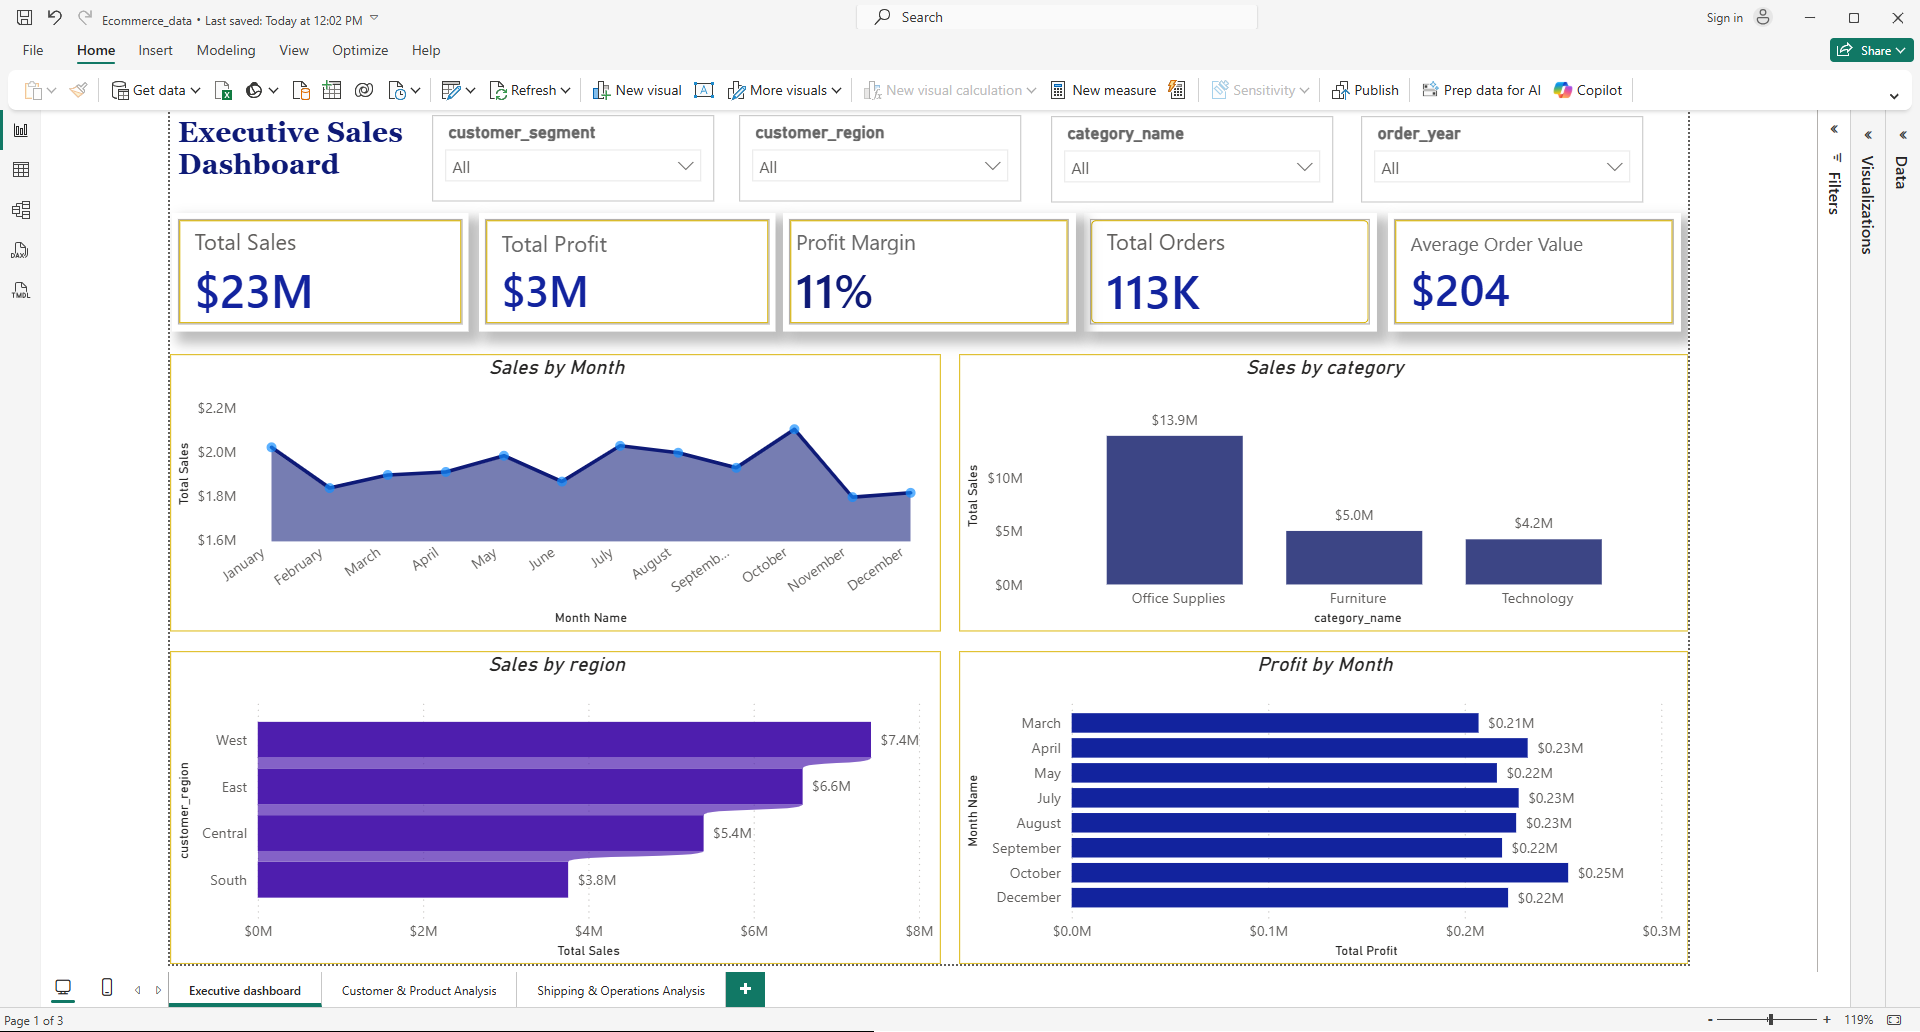

The dashboard page shown, as its layout file describes it:
{"tool":"powerbi","page":{"name":"Executive dashboard","canvas":[1280,720],"ordinal":0},"visuals":[{"type":"textbox","box":[0,0,355.4,76.8],"z":0},{"type":"stackedAreaChart","title":"Sales by Month ","fields":{"Category":["Calender.Month Name"],"Y":["Ecommerce_data.Total Sales"]},"box":[305.8,159.9,580.7,265.5],"z":1000},{"type":"columnChart","title":"Sales by category ","fields":{"Category":["Ecommerce_data.category_name"],"Y":["Ecommerce_data.Total Sales"]},"box":[886.3,159.9,393.7,265.8],"z":2000},{"type":"pieChart","title":" Sales by region","fields":{"Category":["Ecommerce_data.customer_region"],"Y":["Ecommerce_data.Total Sales"]},"box":[305.4,426,422.1,293.7],"z":3000},{"type":"barChart","title":"Profit by Month ","fields":{"Category":["Calender.Month Name"],"Y":["Ecommerce_data.Total Profit"]},"box":[727.4,425.7,552.6,293.8],"z":4000},{"type":"cardVisual","fields":{"Data":["Ecommerce_data.Total Customers"]},"box":[0,68.1,305.4,81.7],"z":5000},{"type":"cardVisual","fields":{"Data":["Ecommerce_data.Total Orders"]},"box":[0,149.8,305.4,79.8],"z":6000},{"type":"cardVisual","fields":{"Data":["Ecommerce_data.Total Sales"]},"box":[0,229.2,305,74.2],"z":7000},{"type":"cardVisual","fields":{"Data":["Ecommerce_data.Total Profit"]},"box":[0,303.5,305.4,77.8],"z":8000},{"type":"cardVisual","fields":{"Data":["Ecommerce_data.Total Quantity"]},"box":[0,381.3,305.4,88.5],"z":9000},{"type":"cardVisual","fields":{"Data":["Ecommerce_data.Average Order Value"]},"box":[0,464,305.4,82.7],"z":10000},{"type":"cardVisual","fields":{"Data":["Ecommerce_data.Profit Margin"]},"box":[0,546.6,305.4,84.6],"z":11000},{"type":"cardVisual","fields":{"Data":["Ecommerce_data.Average Delivery Delay"]},"box":[0,631.2,305.4,88.5],"z":12000},{"type":"slicer","fields":{"Values":["Ecommerce_data.order_year"]},"box":[984.2,4.3,216.9,145.9],"z":13000},{"type":"slicer","fields":{"Values":["Ecommerce_data.category_name"]},"box":[760.8,4.3,207.2,145.9],"z":14000},{"type":"slicer","fields":{"Values":["Ecommerce_data.customer_region"]},"box":[536.5,4.3,206.2,145.9],"z":15000},{"type":"slicer","fields":{"Values":["Ecommerce_data.customer_segment"]},"box":[320,4.3,203.3,145.9],"z":16000}]}

Visuals, with their boxes on the page's 1280x720 design canvas (x1, y1, x2, y2). These are canvas units, not pixel positions in the 1920x1032 screenshot, which may show the page scaled, cropped or inside an application window:
textbox: detection(0, 0, 355, 77)
"Sales by Month " stackedAreaChart: detection(306, 160, 886, 425)
"Sales by category " columnChart: detection(886, 160, 1280, 426)
" Sales by region" pieChart: detection(305, 426, 728, 720)
"Profit by Month " barChart: detection(727, 426, 1280, 720)
cardVisual - Ecommerce_data.Total Customers: detection(0, 68, 305, 150)
cardVisual - Ecommerce_data.Total Orders: detection(0, 150, 305, 230)
cardVisual - Ecommerce_data.Total Sales: detection(0, 229, 305, 303)
cardVisual - Ecommerce_data.Total Profit: detection(0, 304, 305, 381)
cardVisual - Ecommerce_data.Total Quantity: detection(0, 381, 305, 470)
cardVisual - Ecommerce_data.Average Order Value: detection(0, 464, 305, 547)
cardVisual - Ecommerce_data.Profit Margin: detection(0, 547, 305, 631)
cardVisual - Ecommerce_data.Average Delivery Delay: detection(0, 631, 305, 720)
slicer - Ecommerce_data.order_year: detection(984, 4, 1201, 150)
slicer - Ecommerce_data.category_name: detection(761, 4, 968, 150)
slicer - Ecommerce_data.customer_region: detection(536, 4, 743, 150)
slicer - Ecommerce_data.customer_segment: detection(320, 4, 523, 150)
